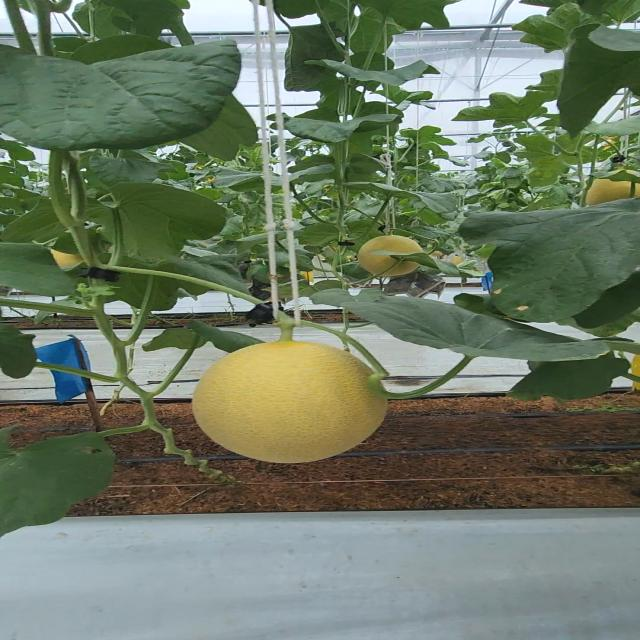Melon: (192, 338, 395, 468)
